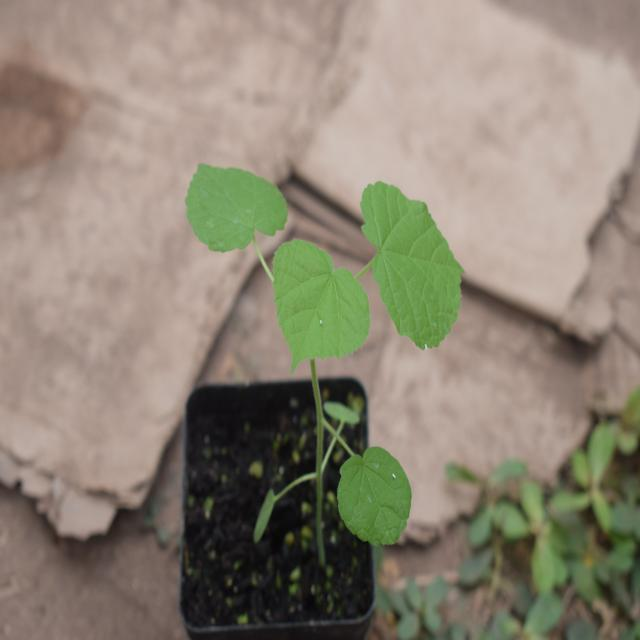abutilon theophrasti: (159, 130, 461, 558)
